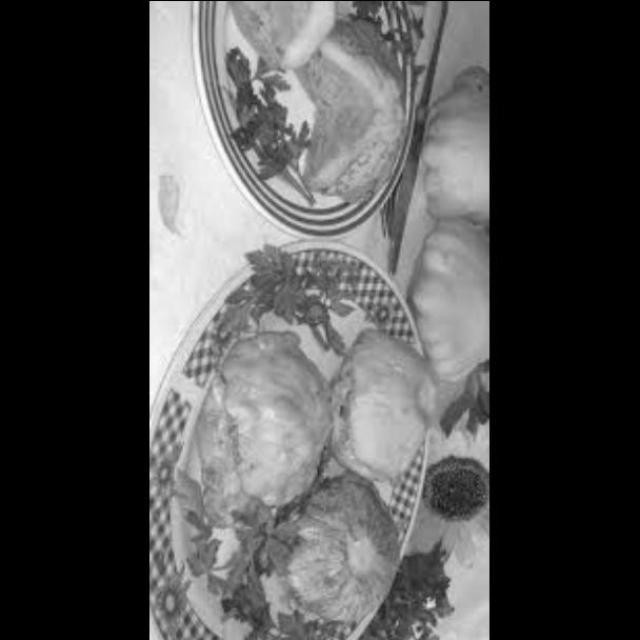squash: (200, 309, 340, 518), (306, 8, 412, 212), (291, 470, 425, 628), (335, 321, 444, 500), (410, 44, 490, 232), (406, 214, 491, 382), (218, 0, 342, 69)
